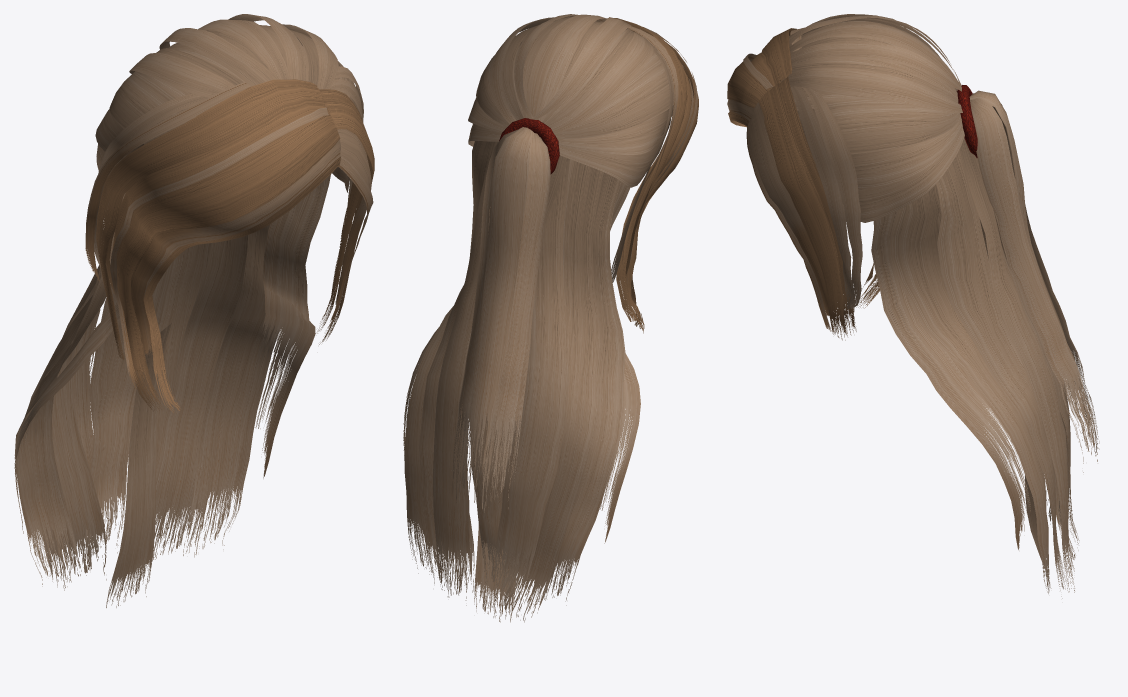
File: mh_elvs_keylth_hair.glb
3 views of the same model, side by side, from view 1: azimuth 30°, elevation 25°; view 2: azimuth 150°, elevation 25°; view 3: azimuth 270°, elevation 25° (orthographic). The views are drawn at different scales.
Parts seen in each view (by area): view 1: mh_elvs_keylth_hair; view 2: mh_elvs_keylth_hair; view 3: mh_elvs_keylth_hair.
Part boxes in pixels (x1,y1,x2,y2): mh_elvs_keylth_hair: (14, 14, 374, 607); mh_elvs_keylth_hair: (403, 14, 698, 622); mh_elvs_keylth_hair: (727, 14, 1099, 598).
Bounding box in the file's own units: 0.2419 × 0.5976 × 0.3325.
Materials: 1 (1 with a texture image).
